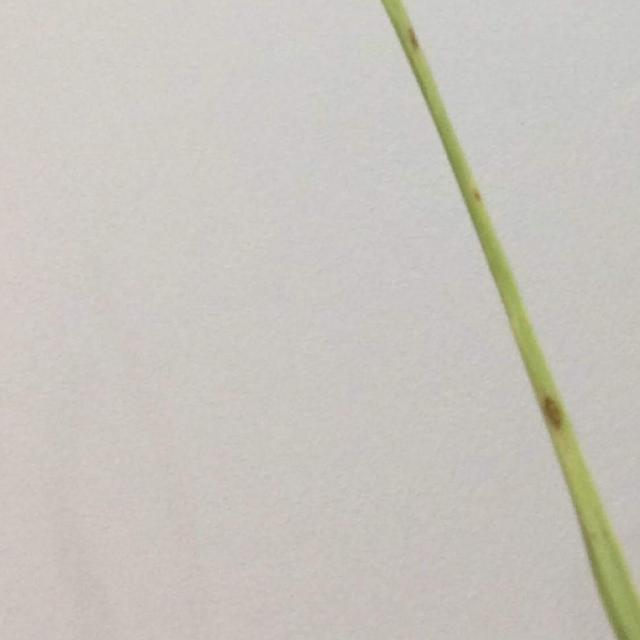Blast: (546, 394, 562, 428), (408, 26, 420, 53)
